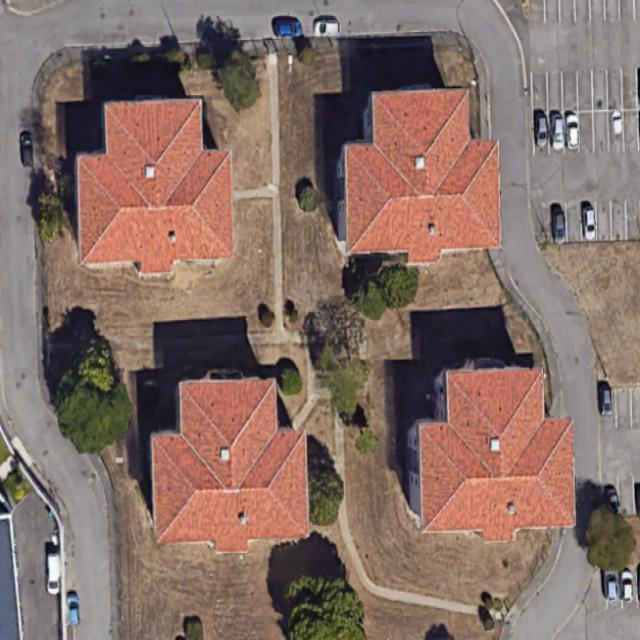immeuble: (407, 368, 575, 543), (335, 89, 501, 265), (75, 98, 234, 277), (148, 378, 309, 554)
